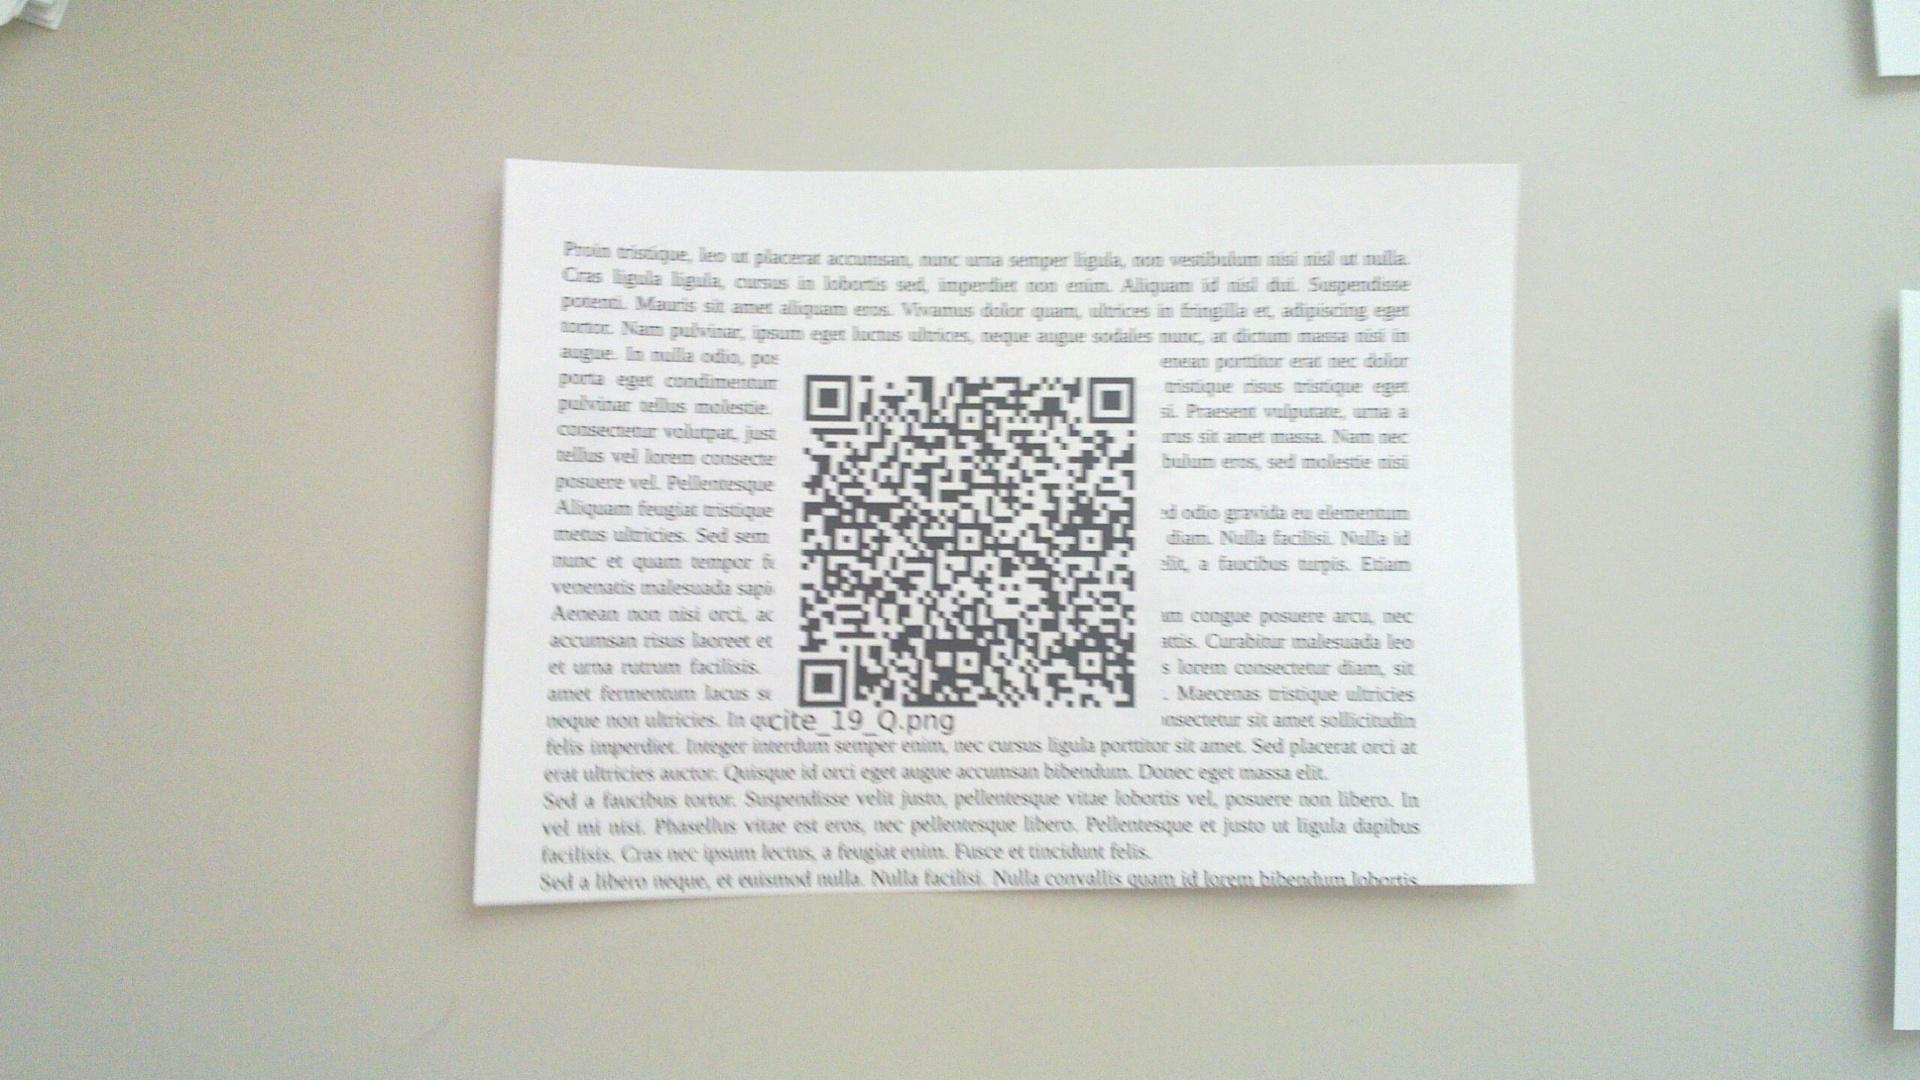Finder pattern: (1084, 371, 1141, 426), (803, 371, 858, 426), (796, 654, 851, 709)
